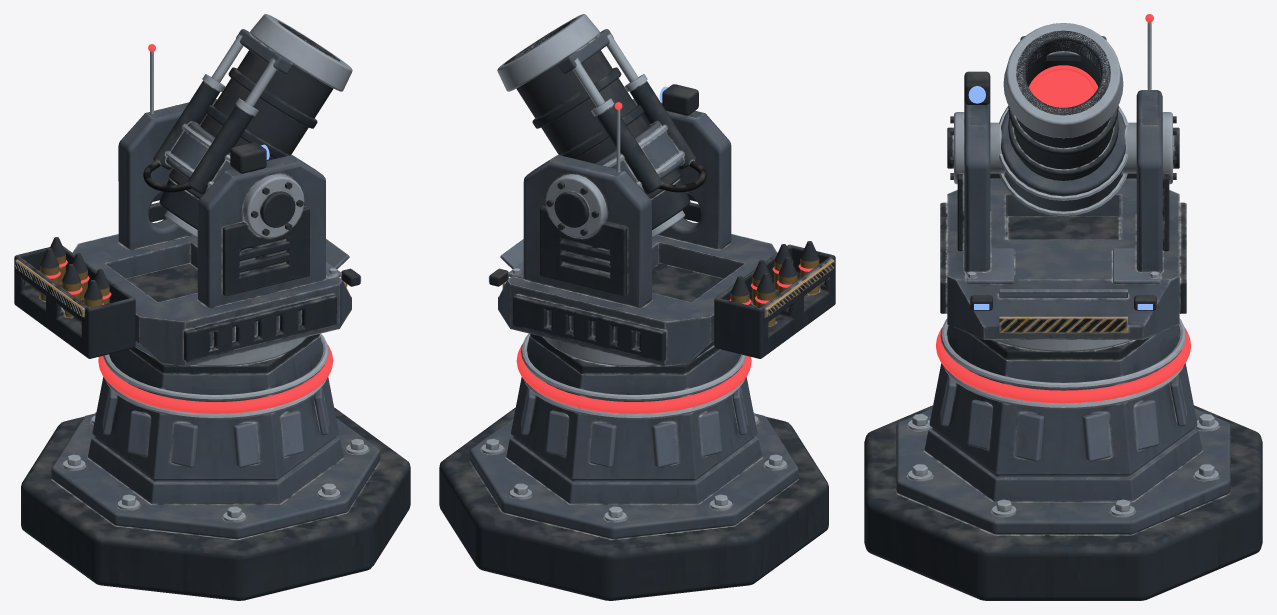
Rendered from mortar.glb.
3 renders of one model, left to right at view 1: azimuth 30°, elevation 25°; view 2: azimuth 150°, elevation 25°; view 3: azimuth 270°, elevation 25°, orthographic. The views are drawn at different scales.
Visible parts, largest first — view 1: Base, Turret, Tube, Cradle; view 2: Base, Turret, Tube, Cradle; view 3: Base, Turret, Tube, Cradle.
Part boxes in pixels (left/top/right/bottom): Base: left=21, top=333, right=410, bottom=600; Turret: left=14, top=44, right=361, bottom=366; Tube: left=159, top=14, right=352, bottom=237; Cradle: left=143, top=74, right=258, bottom=194; Base: left=439, top=333, right=828, bottom=600; Turret: left=488, top=84, right=835, bottom=366; Tube: left=497, top=14, right=690, bottom=238; Cradle: left=591, top=74, right=706, bottom=194; Base: left=864, top=318, right=1262, bottom=600; Turret: left=940, top=14, right=1186, bottom=339; Tube: left=1003, top=23, right=1123, bottom=216; Cradle: left=990, top=106, right=1136, bottom=216.
Bounding box in the file's own units: 4.75 × 6.76 × 4.62.
6 materials, 4 textured.
